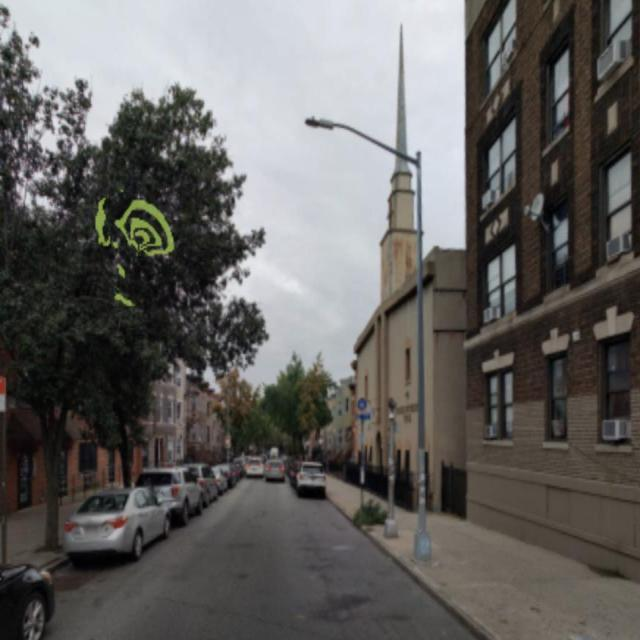off: (283, 108, 444, 216)
